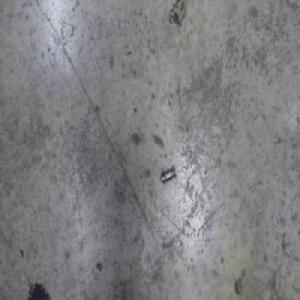Bolt: (160, 166, 176, 186)
